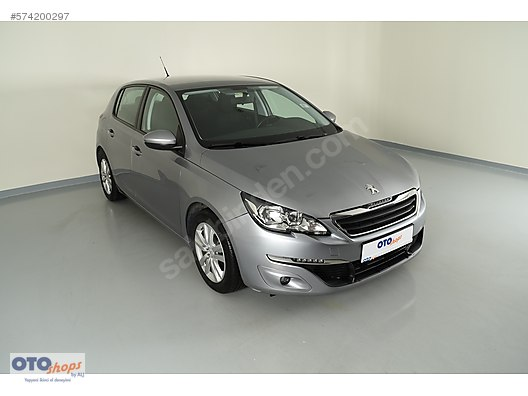peugeot: (86, 68, 437, 318)
